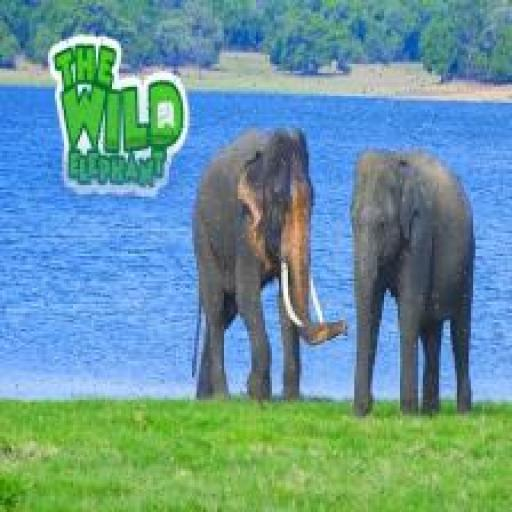Elephant: (192, 126, 347, 400), (354, 155, 476, 414)
